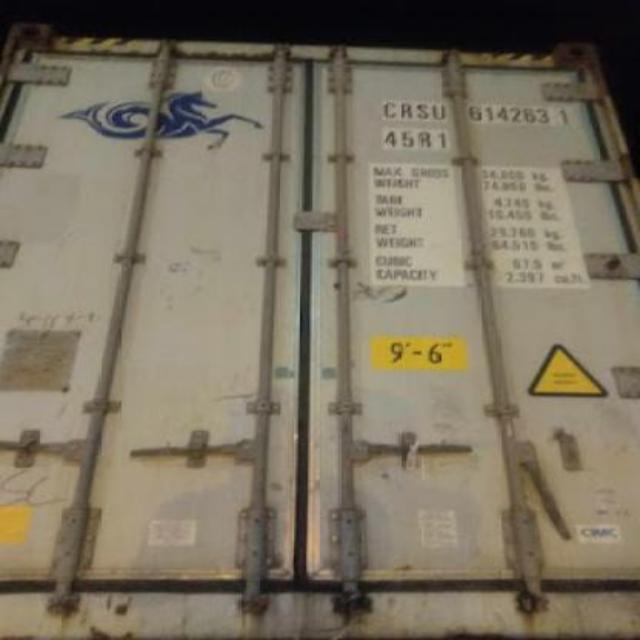1: (556, 102, 574, 128), (484, 99, 494, 123)
2: (508, 101, 522, 125)
3: (536, 104, 550, 126)
4: (496, 99, 508, 125)
6: (466, 99, 482, 128), (522, 103, 536, 127)
C: (380, 95, 398, 121)
R: (396, 97, 412, 123)
S: (414, 98, 430, 122)
U: (428, 97, 448, 123)
